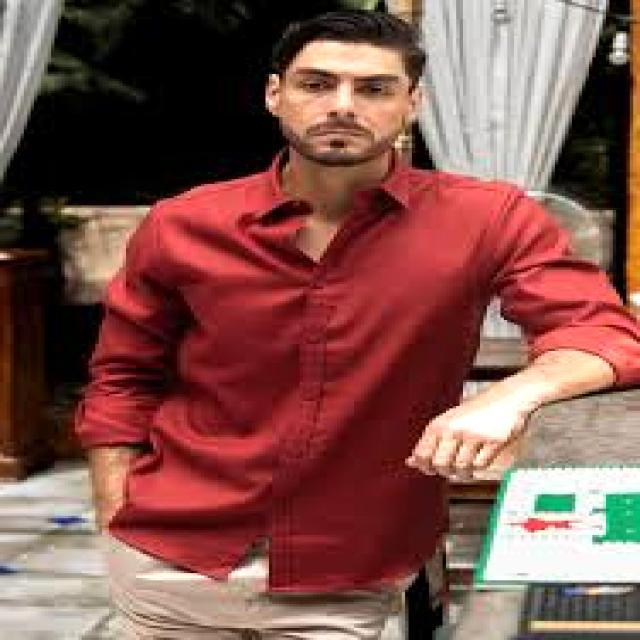face: (266, 41, 418, 167)
lower-wear: (106, 535, 411, 639)
top-wear: (79, 160, 639, 592)
